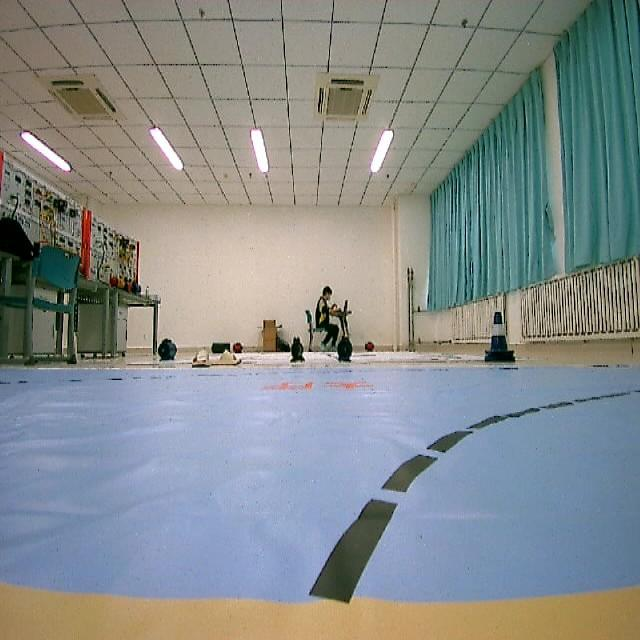obstacle: (479, 307, 516, 372)
